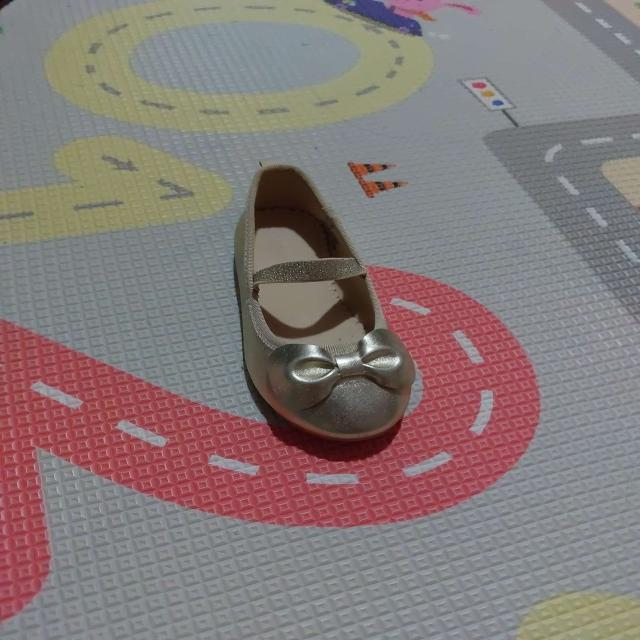shoe: (232, 159, 418, 443)
